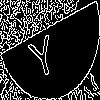Y: (25, 25, 58, 81)
